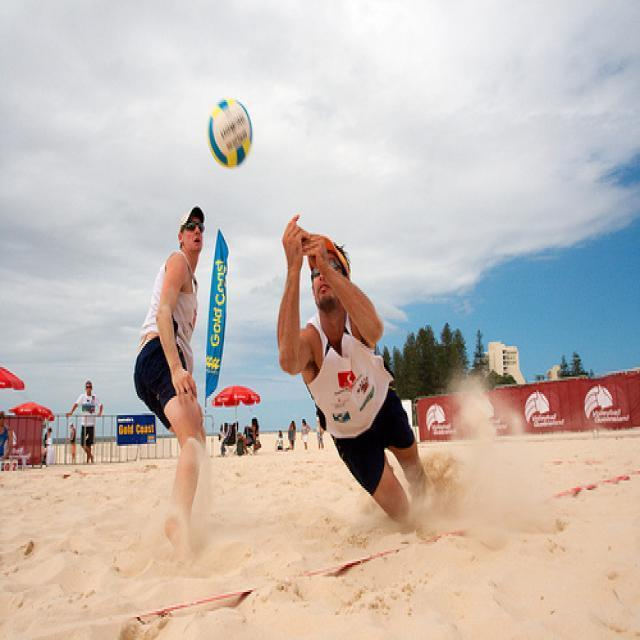volleyball: (207, 96, 254, 168)
